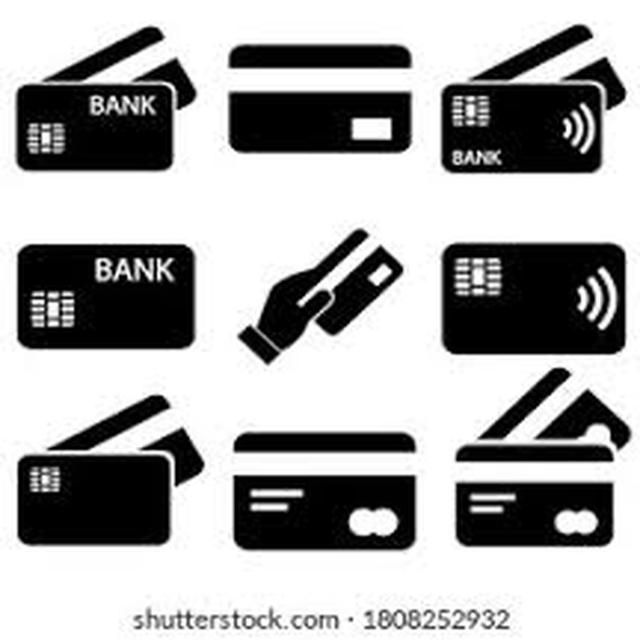card: (226, 392, 426, 566), (212, 34, 432, 176), (5, 218, 212, 364), (442, 218, 632, 366), (9, 434, 188, 578), (418, 63, 624, 174), (9, 66, 178, 196), (456, 433, 621, 556)
